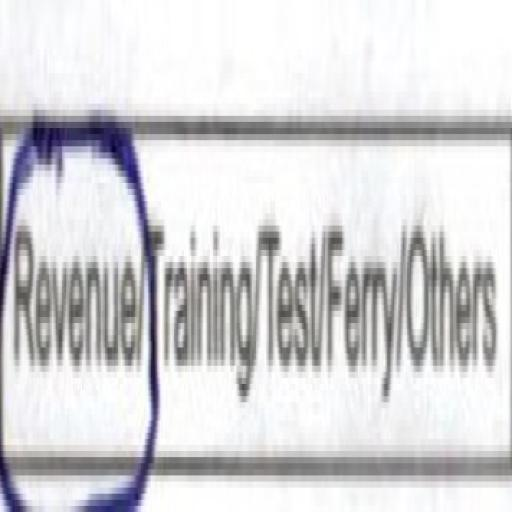check: (0, 61, 142, 512)
